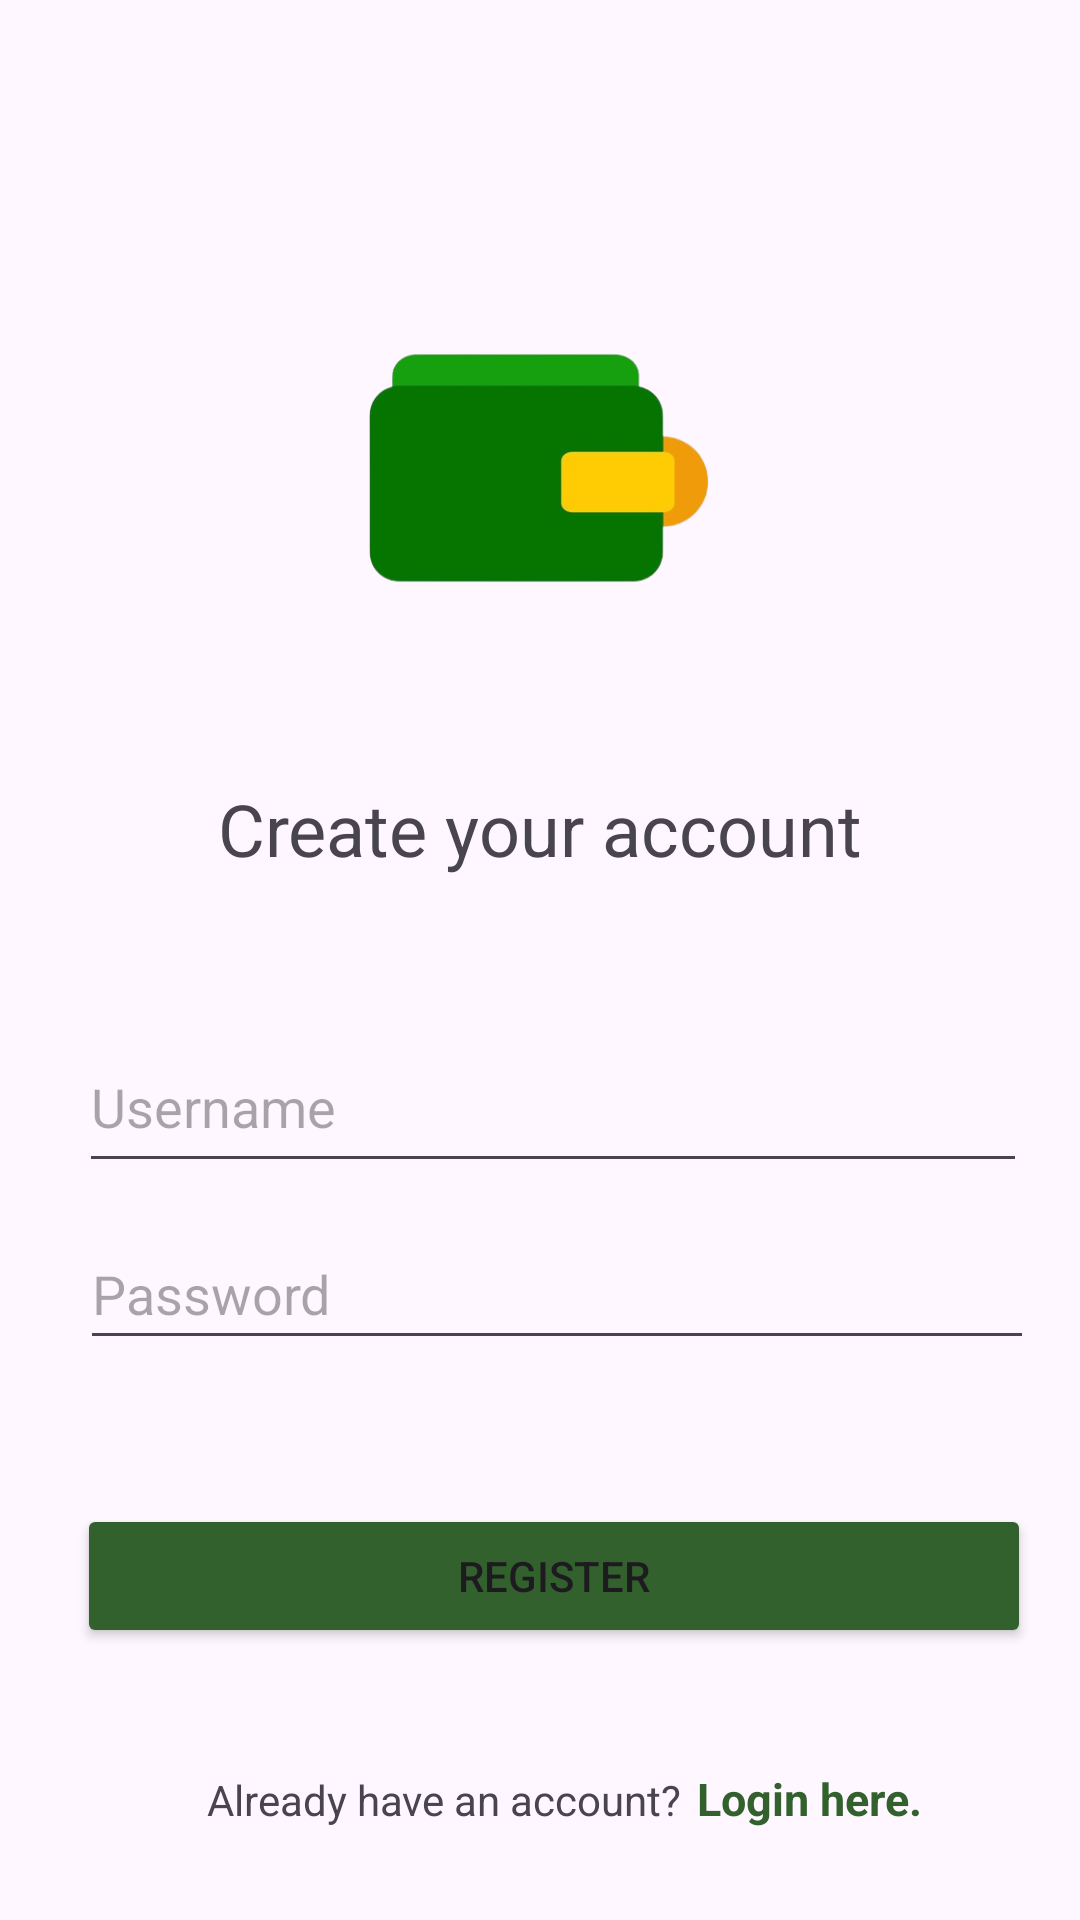

Point at icon controls on the screen. Image size 1080 x 1920, points as [x,y].
greenwallet: [538,468]
